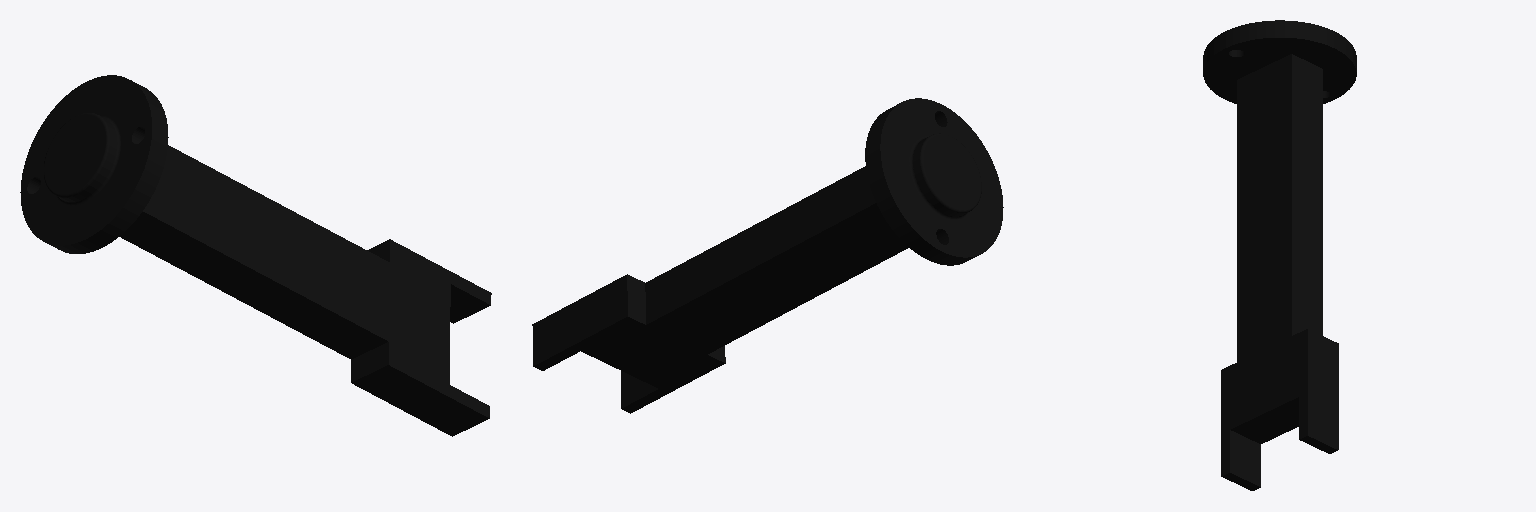
The robot description file, URDF, robot "fr3":
<?xml version="1.0" ?>
<robot name="fr3" xmlns:xacro="http://www.ros.org/wiki/xacro">
  <link name="fr3_link0">
    <visual>
      <geometry>
        <mesh filename="meshes/visual/link0.dae"/>
      </geometry>
    </visual>
    <collision>
      <geometry>
        <mesh filename="meshes/collision/link0.obj"/>
      </geometry>
    </collision>
    <inertial>
      <!-- Estimated guesses from CAD -->
      <origin rpy="0 0 0" xyz="-0.041018 -0.00014 0.049974"/>
      <mass value="0.629769"/>  
      <inertia ixx="0.00315" ixy="8.2904e-7" ixz="0.0015" iyy="0.00388" iyz="8.2299e-6" izz="0.004285"/>
    </inertial>
  </link>
  <link name="fr3_link1">
    <visual>
      <geometry>
        <mesh filename="meshes/visual/link1.dae"/>
      </geometry>
    </visual>
    <collision>
      <geometry>
        <mesh filename="meshes/collision/link1.obj"/>
      </geometry>
    </collision>
    <inertial>
      <origin rpy="0 0 0" xyz="0.003875 0.002081 -0.04762"/>
      <mass value="4.970684"/>
      <inertia ixx="0.70337" ixy="-0.00013900" ixz="0.0067720" iyy="0.70661" iyz="0.019169" izz="0.0091170"/>
    </inertial>
  </link>
  <joint name="fr3_joint1" type="revolute">
    <origin rpy="0 0 0" xyz="0 0 0.333"/>
    <parent link="fr3_link0"/>
    <child link="fr3_link1"/>
    <axis xyz="0 0 1"/>
    <limit effort="87.0" lower="-2.7437" upper="2.7437" velocity="2.62"/>
    <safety_controller k_position="100.0" k_velocity="40.0" soft_lower_limit="-2.7437" soft_upper_limit="2.7437"/>
  </joint>
  <link name="fr3_link2">
    <visual>
      <geometry>
        <mesh filename="meshes/visual/link2.dae"/>
      </geometry>
    </visual>
    <collision>
      <geometry>
        <mesh filename="meshes/collision/link2.obj"/>
      </geometry>
    </collision>
    <inertial>
      <origin rpy="0 0 0" xyz=" -0.003141 -0.02872  0.003495"/>
      <mass value="0.646926"/>
      <inertia ixx="0.0079620" ixy="-3.9250e-3" ixz="1.0254e-02" iyy="2.8110e-02" iyz="7.0400e-04" izz="2.5995e-02"/>
    </inertial>
  </link>
   <joint name="fr3_joint2" type="revolute">
    <origin rpy="-1.570796326794897 0 0" xyz="0 0 0"/>
    <parent link="fr3_link1"/>
    <child link="fr3_link2"/>
    <axis xyz="0 0 1"/>
    <limit effort="87.0" lower="-1.7837" upper="1.7837" velocity="2.62"/>
    <safety_controller k_position="100.0" k_velocity="40.0" soft_lower_limit="-1.7837" soft_upper_limit="1.7837"/>
  </joint>
  <link name="fr3_link3">
    <visual>
      <geometry>
        <mesh filename="meshes/visual/link3.dae"/>
      </geometry>
    </visual>
    <collision>
      <geometry>
        <mesh filename="meshes/collision/link3.obj"/>
      </geometry>
    </collision>
    <inertial>
      <origin rpy="0 0 0" xyz="2.7518e-02 3.9252e-02 -6.6502e-02"/>
      <mass value="3.228604"/>
      <inertia ixx="3.7242e-02" ixy="-4.7610e-03" ixz="-1.1396e-02" iyy="3.6155e-02" iyz="-1.2805e-02" izz="1.0830e-02"/>
    </inertial>
  </link>
  <joint name="fr3_joint3" type="revolute">
    <origin rpy="1.570796326794897 0 0" xyz="0 -0.316 0"/>
    <parent link="fr3_link2"/>
    <child link="fr3_link3"/>
    <axis xyz="0 0 1"/>
    <limit effort="87.0" lower="-2.9007" upper="2.9007" velocity="2.62"/>
    <safety_controller k_position="100.0" k_velocity="40.0" soft_lower_limit="-2.9007" soft_upper_limit="2.9007"/>
    <dynamics D="1" K="7000" damping="0.003" friction="0.0" mu_coulomb="0" mu_viscous="16"/>
  </joint>
  <link name="fr3_link4">
    <visual>
      <geometry>
        <mesh filename="meshes/visual/link4.dae"/>
      </geometry>
    </visual>
    <collision>
      <geometry>
        <mesh filename="meshes/collision/link4.obj"/>
      </geometry>
    </collision>
    <inertial>
      <origin rpy="0 0 0" xyz="-5.317e-02 1.04419e-01 2.7454e-02"/>
      <mass value="3.587895"/>
      <inertia ixx="2.5853e-02" ixy="7.7960e-03" ixz="-1.3320e-03" iyy="1.9552e-02" iyz="8.6410e-03" izz="2.8323e-02"/>
    </inertial>
  </link>
   <joint name="fr3_joint4" type="revolute">
    <origin rpy="1.570796326794897 0 0" xyz="0.0825 0 0"/>
    <parent link="fr3_link3"/>
    <child link="fr3_link4"/>
    <axis xyz="0 0 1"/>
    <limit effort="87.0" lower="-3.0421" upper="-0.1518" velocity="2.62"/>
    <safety_controller k_position="100.0" k_velocity="40.0" soft_lower_limit="-3.0421" soft_upper_limit="-0.1518"/>
  </joint>
  <link name="fr3_link5">
    <visual>
      <geometry>
        <mesh filename="meshes/visual/link5.dae"/>
      </geometry>
    </visual>
    <collision>
      <geometry>
        <mesh filename="meshes/collision/link5.obj"/>
      </geometry>
    </collision>
    <inertial>
      <origin rpy="0 0 0" xyz="-1.1953e-02 4.1065e-02 -3.8437e-02"/>
      <mass value="1.225946"/>
      <inertia ixx="3.5549e-02" ixy="-2.1170e-03" ixz="-4.0370e-03" iyy="2.9474e-02" iyz="2.2900e-04" izz="8.6270e-03"/>
    </inertial>
  </link>
   <joint name="fr3_joint5" type="revolute">
    <origin rpy="-1.570796326794897 0 0" xyz="-0.0825 0.384 0"/>
    <parent link="fr3_link4"/>
    <child link="fr3_link5"/>
    <axis xyz="0 0 1"/>
    <limit effort="12.0" lower="-2.8065" upper="2.8065" velocity="5.26"/>
    <safety_controller k_position="100.0" k_velocity="40.0" soft_lower_limit="-2.8065" soft_upper_limit="2.8065"/>
    <dynamics D="1" K="7000" damping="0.003" friction="0.0" mu_coulomb="0" mu_viscous="16"/>
  </joint>
  <link name="fr3_link6">
    <visual>
      <geometry>
        <mesh filename="meshes/visual/link6.dae"/>
      </geometry>
    </visual>
    <collision>
      <geometry>
        <mesh filename="meshes/collision/link6.obj"/>
      </geometry>
    </collision>
    <inertial>
      <origin rpy="0 0 0" xyz="6.0149e-02 -1.4117e-02 -1.0517e-02"/>
      <mass value="1.666555"/>
      <inertia ixx="1.9640e-03" ixy="1.0900e-04" ixz="-1.1580e-03" iyy="4.3540e-03" iyz="3.4100e-04" izz="5.4330e-03"/>
    </inertial>
  </link>
  <joint name="fr3_joint6" type="revolute">
    <origin rpy="1.570796326794897 0 0" xyz="0 0 0"/>
    <parent link="fr3_link5"/>
    <child link="fr3_link6"/>
    <axis xyz="0 0 1"/>
    <limit effort="12.0" lower="0.5445" upper="4.5169" velocity="4.18"/>
    <safety_controller k_position="100.0" k_velocity="40.0" soft_lower_limit="0.5445" soft_upper_limit="4.5169"/>
    <dynamics D="1" K="7000" damping="0.003" friction="0.0" mu_coulomb="0" mu_viscous="16"/>
  </joint>
  <link name="fr3_link7">
    <visual>
      <geometry>
        <mesh filename="meshes/visual/link7.dae"/>
      </geometry>
    </visual>
    <collision>
      <geometry>
        <mesh filename="meshes/collision/link7.obj"/>
      </geometry>
    </collision>
    <inertial>
      <origin rpy="0 0 0" xyz="1.0517e-02 -4.252e-03 6.1597e-02"/>
      <mass value="7.35522e-01"/>
      <inertia ixx="1.2516e-02" ixy="-4.2800e-04" ixz="-1.1960e-03" iyy="1.0027e-02" iyz="-7.4100e-04" izz="4.8150e-03"/>
    </inertial>
  </link>
  <joint name="fr3_joint7" type="revolute">
    <origin rpy="1.570796326794897 0 0" xyz="0.088 0 0"/>
    <parent link="fr3_link6"/>
    <child link="fr3_link7"/>
    <axis xyz="0 0 1"/>
    <limit effort="12.0" lower="-3.0159" upper="3.0159" velocity="5.26"/>
    <safety_controller k_position="100.0" k_velocity="40.0" soft_lower_limit="-3.0159" soft_upper_limit="3.0159"/>
    <dynamics D="1" K="7000" damping="0.003" friction="0.0" mu_coulomb="0" mu_viscous="16"/>
  </joint>
  <joint name="fr3_hand_joint" type="fixed">
    <!--
    <parent link="fr3_link8"/>
    -->
    <parent link="fr3_link7"/>
    <child link="panda_hand"/>
    <origin rpy="0 0 -0.785398163397" xyz="0 0 0.106"/>
    <!--
    <origin rpy="0 0 -0.785398163397" xyz="0 0 0"/>
    -->
  </joint>
  <!-- to avoid changing code base currently use same name for gripper parts-->
  <link name="panda_hand">
        <visual>
            <geometry>
                <mesh filename="meshes/visual/handv2.dae"/>
            </geometry>
        </visual>
        <collision>
            <geometry>
                <mesh filename="meshes/collision/handv2-collision-acd.obj"/>
            </geometry>
        </collision>
        <inertial>
            <mass value="0.144"/>
            <origin rpy="0 0 0" xyz="0.0 0.0 0.076"/>
            <!-- <origin rpy="0 0 0" xyz="4.56355733e-06 1.37559474e-02 2.45973584e-02"/> -->
            <!-- <inertia ixx="0.001" ixy="0.0" ixz="0.0" iyy="0.0025" iyz="0.0" izz="0.0017"/> -->
            <inertia ixx="5.45762e-04" ixy="0" ixz="0" iyy="5.55862e-04" iyz="0" izz="3.2088e-05" />
        </inertial>
    </link>
    <link name="panda_leftfinger">
        <visual>
            <geometry>
                <mesh filename="meshes/visual/handv2-finger.dae"/>
            </geometry>
        </visual>
        <collision>
            <geometry>
                <mesh filename="meshes/collision/handv2-finger-collision.obj"/>
            </geometry>
        </collision>
    </link>
    <link name="panda_rightfinger">
        <visual>
            <geometry>
                <mesh filename="meshes/visual/handv2-finger.dae"/>
            </geometry>
        </visual>
        <collision>
            <geometry>
                <mesh filename="meshes/collision/handv2-finger-collision.obj"/>
            </geometry>
        </collision>
    </link>
     <link name="panda_tool"/>
  <joint name="panda_finger_joint1" type="fixed">
    <parent link="panda_hand"/>
    <child link="panda_leftfinger"/>
    <origin rpy="0 0 -1.57079632679" xyz="0.0225 0 0.17"/>
    <axis xyz="0 1 0"/>
    <dynamics damping="10.0"/>
    <!-- <limit effort="20" lower="0.0" upper="0.04" velocity="0.2"/> -->
  </joint>
  <joint name="panda_finger_joint2" type="fixed">
    <parent link="panda_hand"/>
    <child link="panda_rightfinger"/>
    <origin rpy="0 0 -1.57079632679" xyz="-0.0225 0 0.17"/>
    <axis xyz="0 -1 0"/>
    <dynamics damping="10.0"/>
    <limit effort="20" lower="0.0" upper="0.04" velocity="0.2"/>
  </joint>
  <joint name="panda_hand_tool_joint" type="fixed">
    <origin xyz="0 0 0.19" rpy="0 0 0" />
    <parent link="panda_hand" />
    <child link="panda_tool" />
  </joint>
</robot>

--- Facts derived from the render (not from the file) ---
3 views of the same robot in one strip: view 1: azimuth 30°, elevation 25°; view 2: azimuth 150°, elevation 25°; view 3: azimuth 270°, elevation 25° (orthographic).
Model fr3 with 12 links and 11 joints (7 revolute, 4 fixed), rooted at fr3_link0, posed all joints at 0 but 2 set to mid-range because 0 is outside their limits (fr3_joint4 = -1.6, fr3_joint6 = 2.53).
Visible links, largest first — view 1: panda_hand, panda_rightfinger, panda_leftfinger; view 2: panda_hand, panda_leftfinger, panda_rightfinger; view 3: panda_hand, panda_rightfinger, panda_leftfinger.
Link boxes in pixels (left/top/right/bottom): panda_hand: left=20, top=75, right=450, bottom=414; panda_rightfinger: left=412, top=385, right=489, bottom=436; panda_leftfinger: left=450, top=272, right=491, bottom=323; panda_hand: left=570, top=98, right=1003, bottom=393; panda_leftfinger: left=532, top=305, right=579, bottom=370; panda_rightfinger: left=621, top=371, right=667, bottom=413; panda_hand: left=1203, top=20, right=1356, bottom=443; panda_rightfinger: left=1221, top=430, right=1260, bottom=490; panda_leftfinger: left=1299, top=393, right=1338, bottom=453.
Bounding box of the posed robot: 0.1857 × 0.0629 × 0.1576 m (x, y, z).
3 mesh visuals loaded from 10 distinct referenced files (2 Collada DAE); not drawn: 8 (reference not matched to a file when rendering).